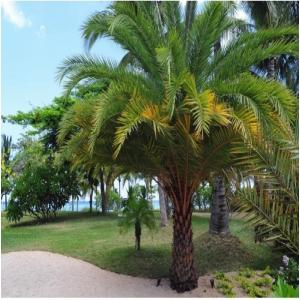palm tree: (53, 0, 299, 291)
